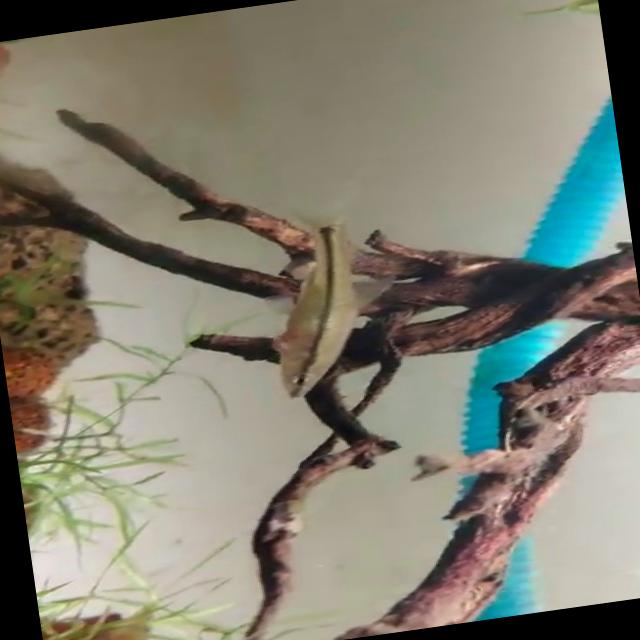Cakil Baligi: (247, 190, 414, 403)
